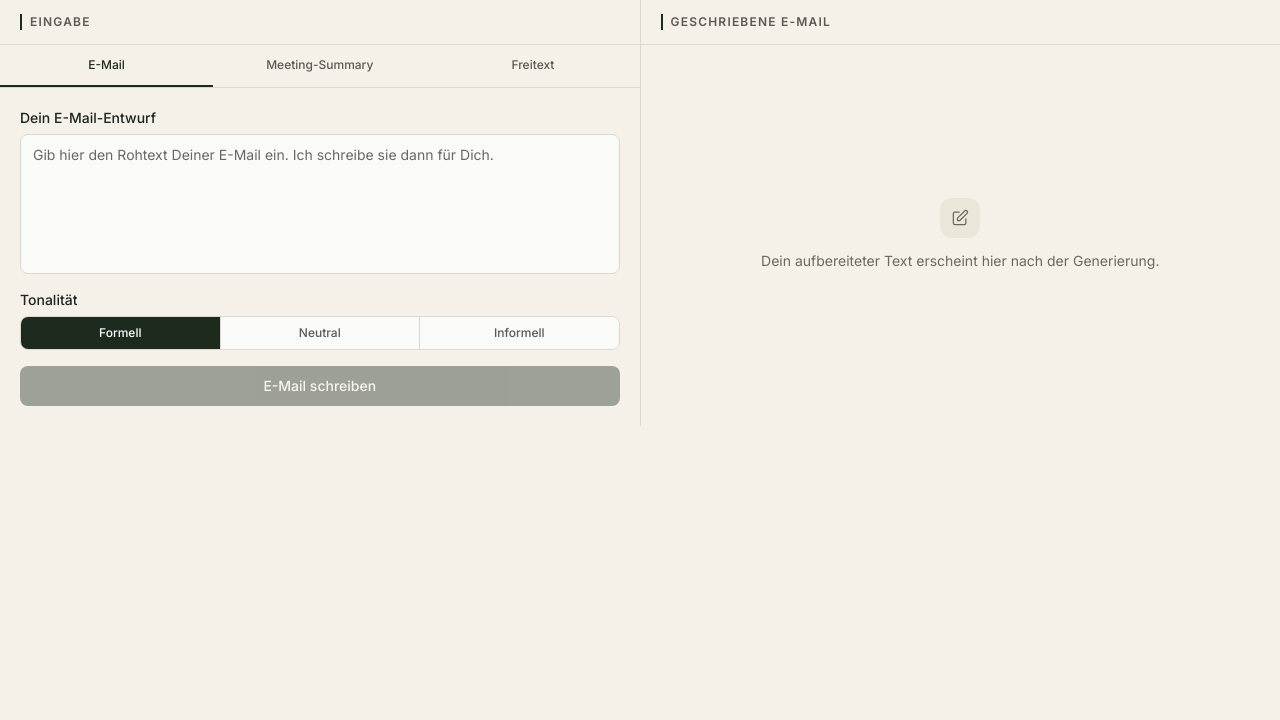
Test: TextPolisherPage — UseCase-Wechsel › wechselt UseCase bei Bestätigen im Dialog
Type "roh" into the text box labelled "Dein E-Mail-Entwurf" at [320, 204], box [20,134,620,274]
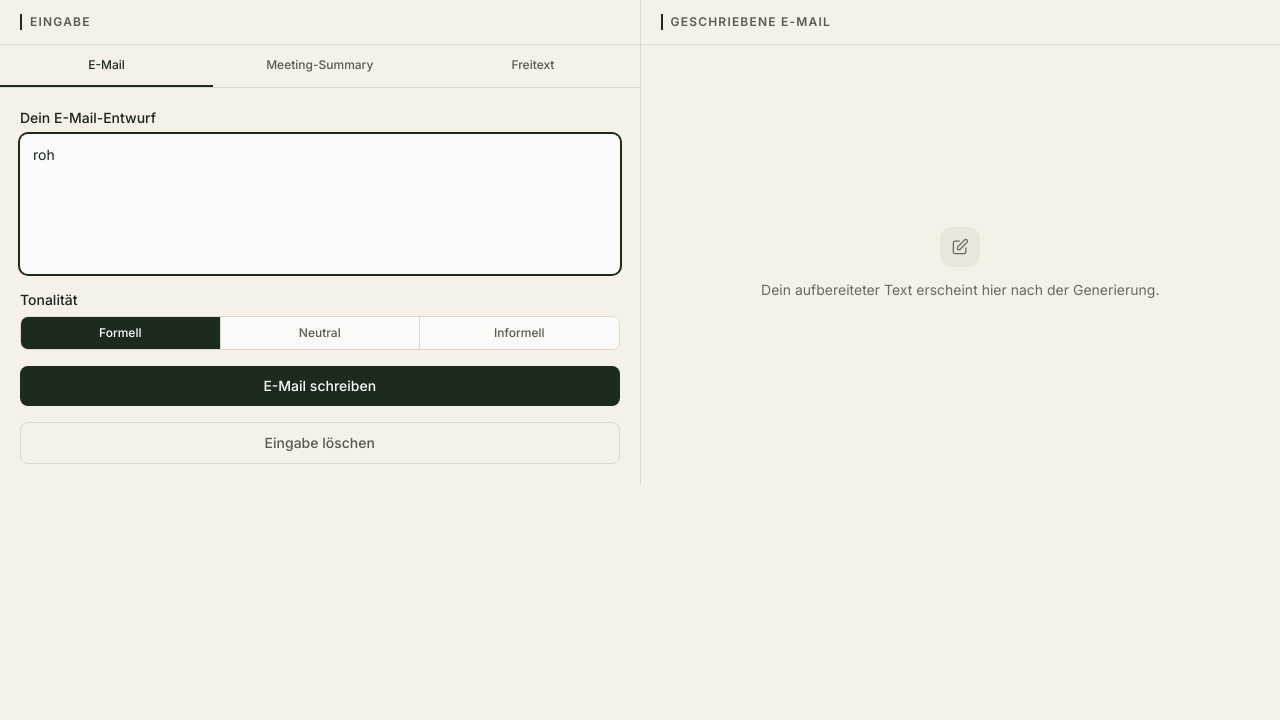
Click the button "E-Mail schreiben" at [320, 386], box [20,366,620,406]
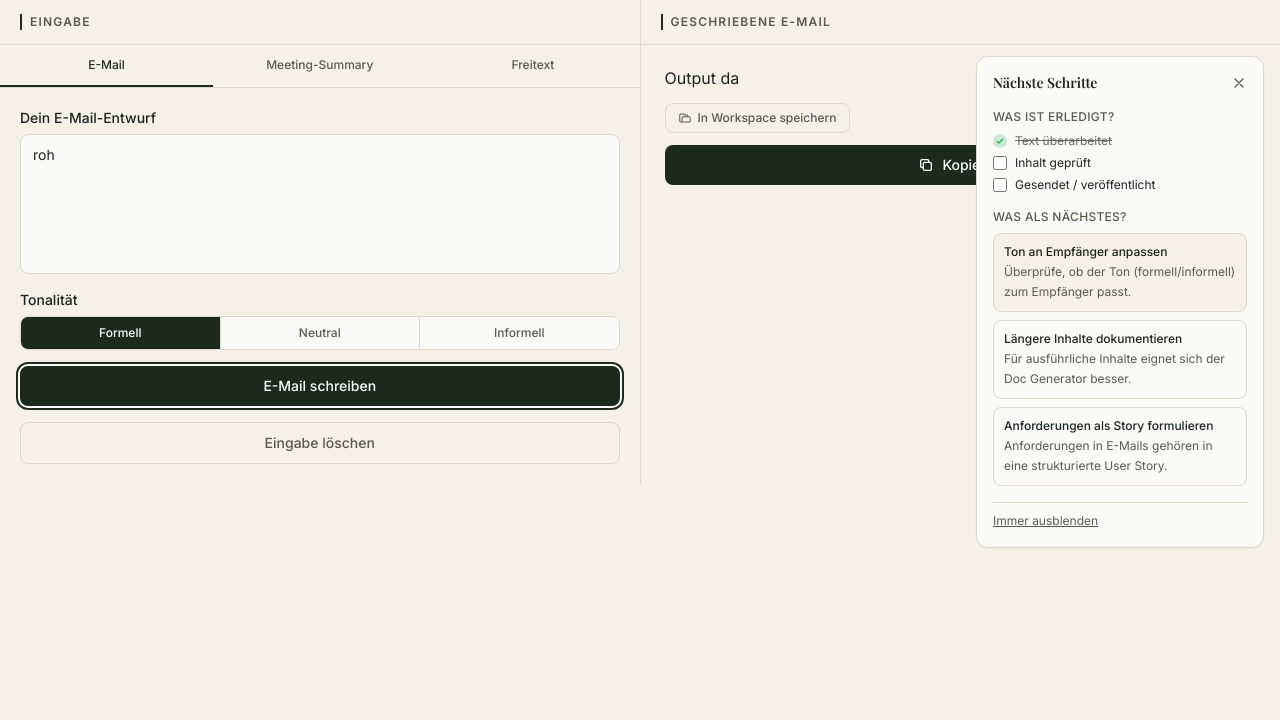
Expected: the text "Output da" is shown, [664,68,739,88]
Click the tab "Meeting-Summary" at [320, 66], box [213,45,426,87]
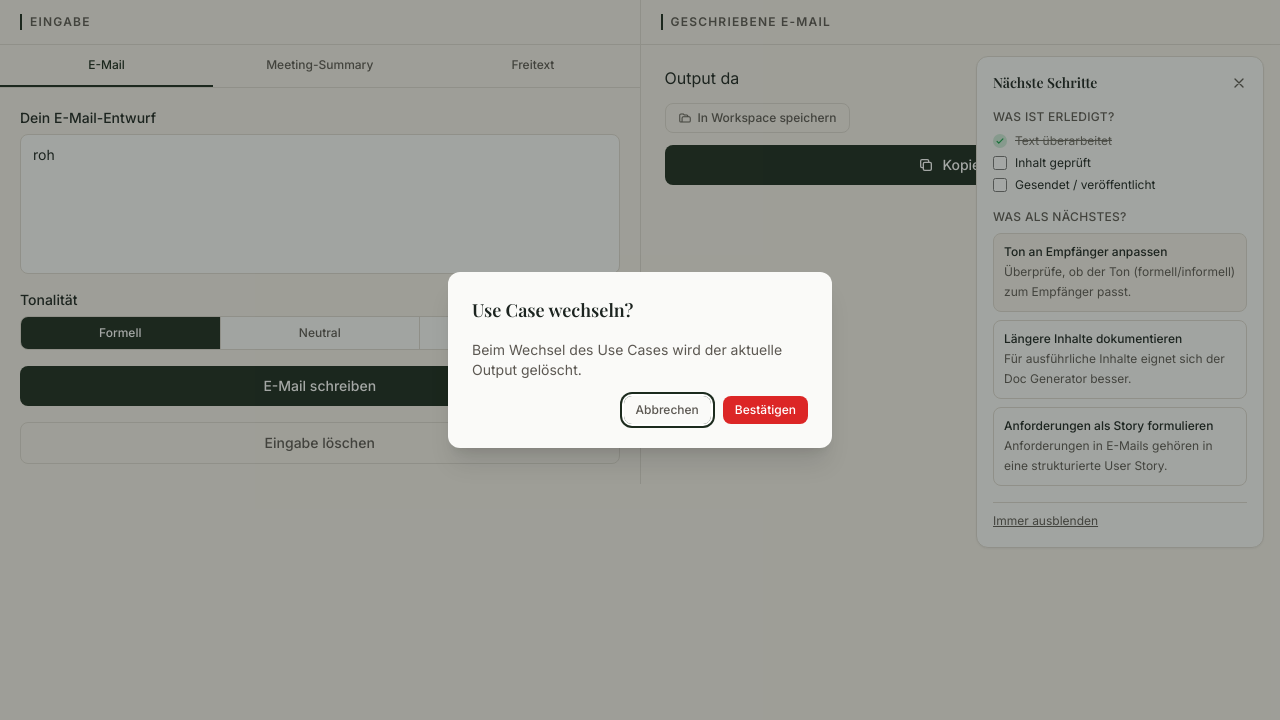
Click the button "Bestätigen" at [765, 410], box [723,396,808,424]
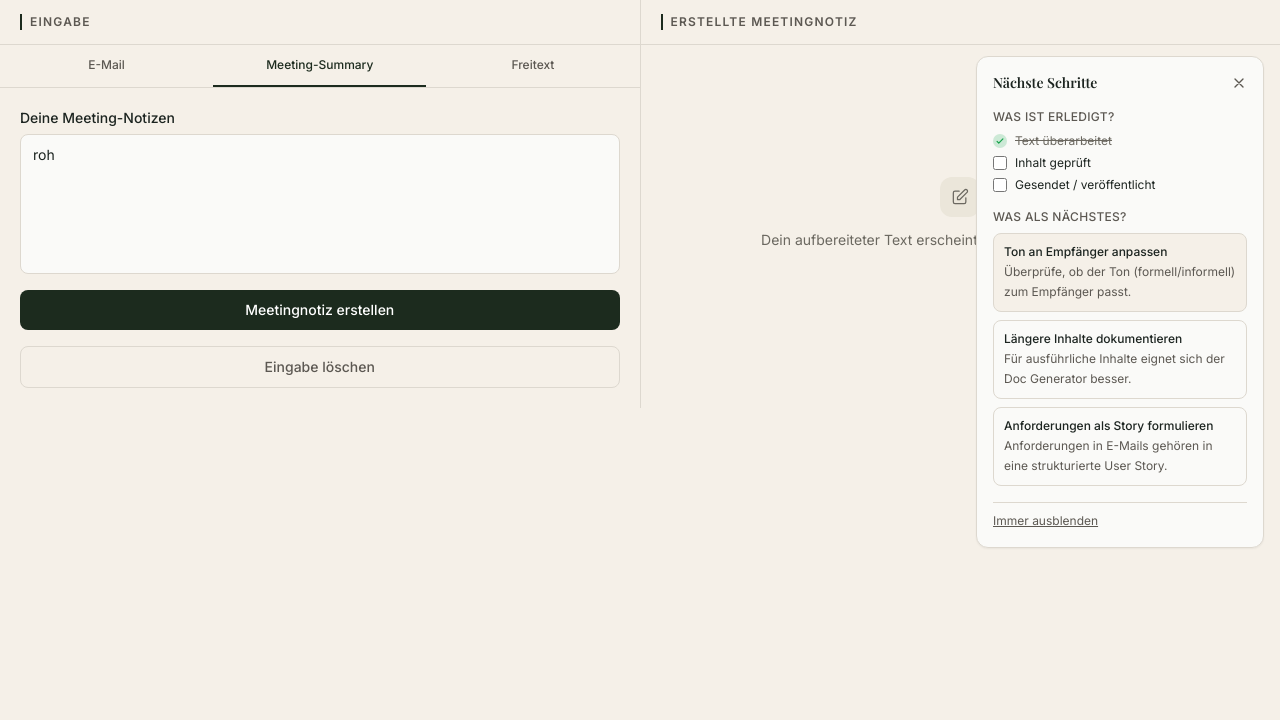
Expected: the button "Meetingnotiz erstellen" is shown, [20,290,620,330]
